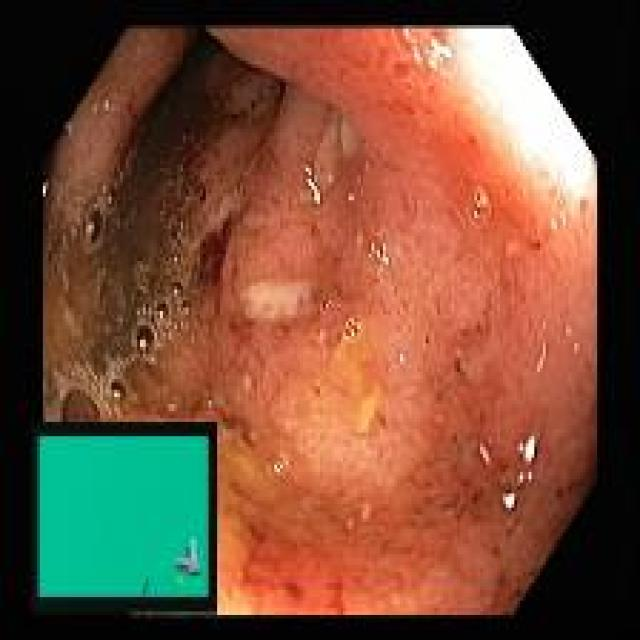ulcerative-colitis: (44, 28, 596, 614)
